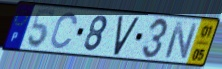3: (141, 17, 170, 61)
5: (28, 6, 59, 50)
8: (83, 14, 109, 53)
C: (49, 11, 79, 51)
N: (162, 20, 199, 61)
V: (112, 15, 142, 57)
